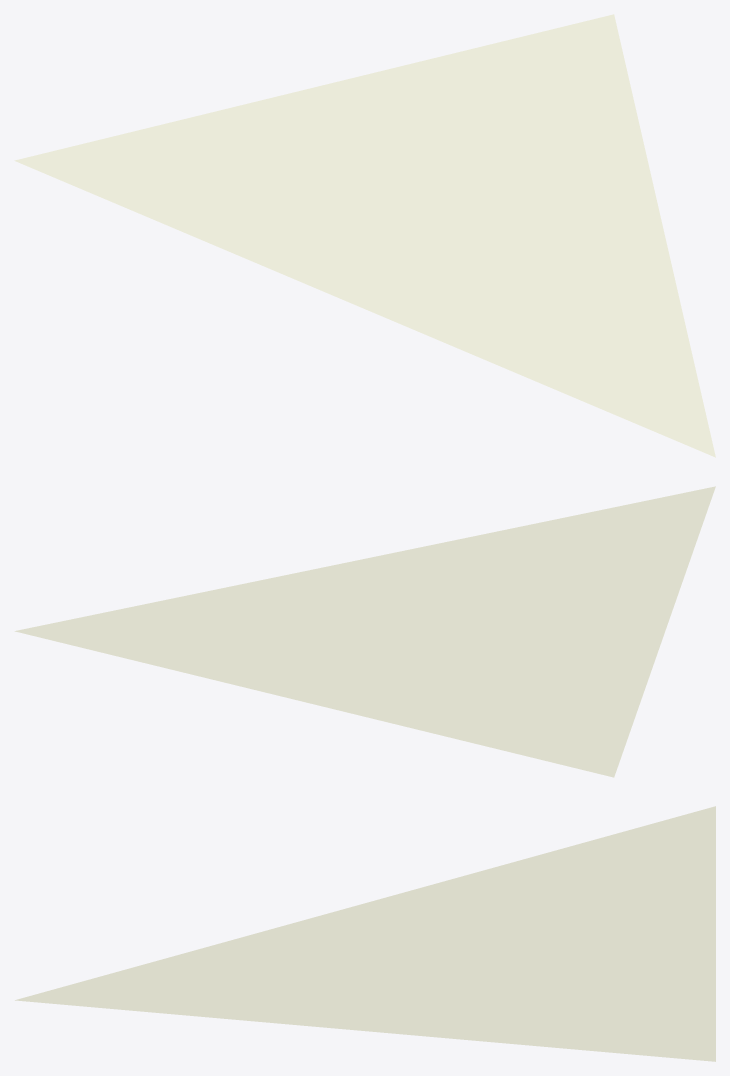
The picture shows the model from 3 angles, top to bottom: view 1: azimuth 30°, elevation 25°; view 2: azimuth 150°, elevation 25°; view 3: azimuth 270°, elevation 25°; orthographic projection. The views are drawn at different scales.
Parts seen in each view (by area): view 1: HoverBomberX_Skel_part01; view 2: HoverBomberX_Skel_part01; view 3: HoverBomberX_Skel_part01.
Part boxes in pixels (x1,y1,x2,y2): HoverBomberX_Skel_part01: (14,14,715,457); HoverBomberX_Skel_part01: (14,486,715,777); HoverBomberX_Skel_part01: (15,806,715,1061).
Bounding box in the file's own units: 0.2246 × 0.0272 × 0.2605.
1 material, 1 textured.
